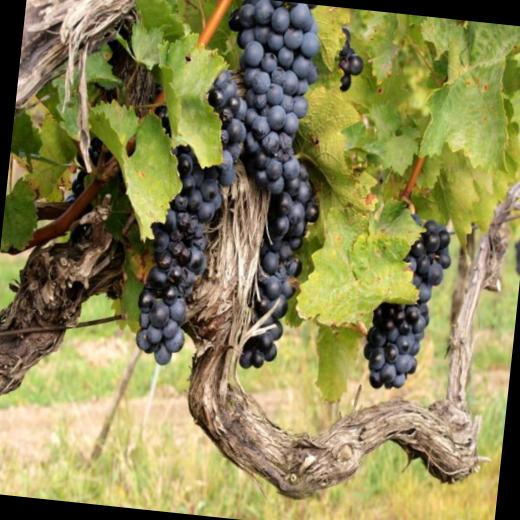Orange: (131, 0, 342, 381), (130, 0, 338, 380), (360, 210, 456, 396), (360, 211, 456, 392), (62, 136, 102, 204), (65, 134, 102, 204), (334, 26, 368, 92), (336, 27, 366, 93), (69, 223, 85, 244)
